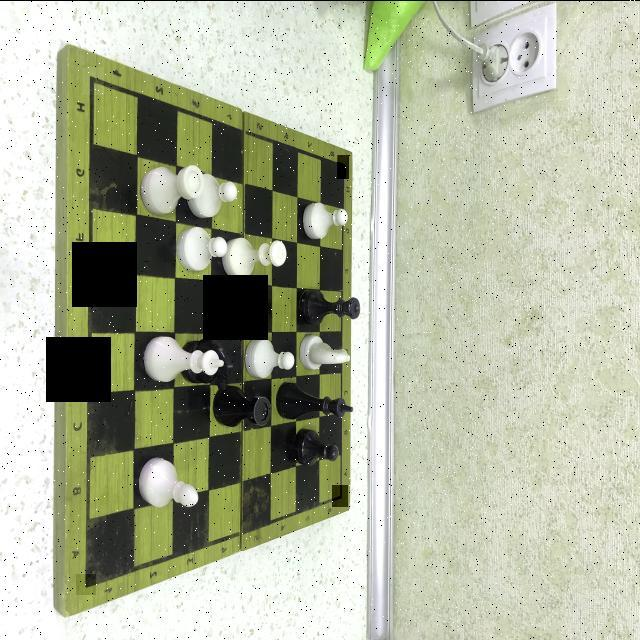chess-table-corners: (83, 66, 104, 94), (76, 573, 96, 594), (332, 484, 348, 506), (336, 154, 348, 178)
